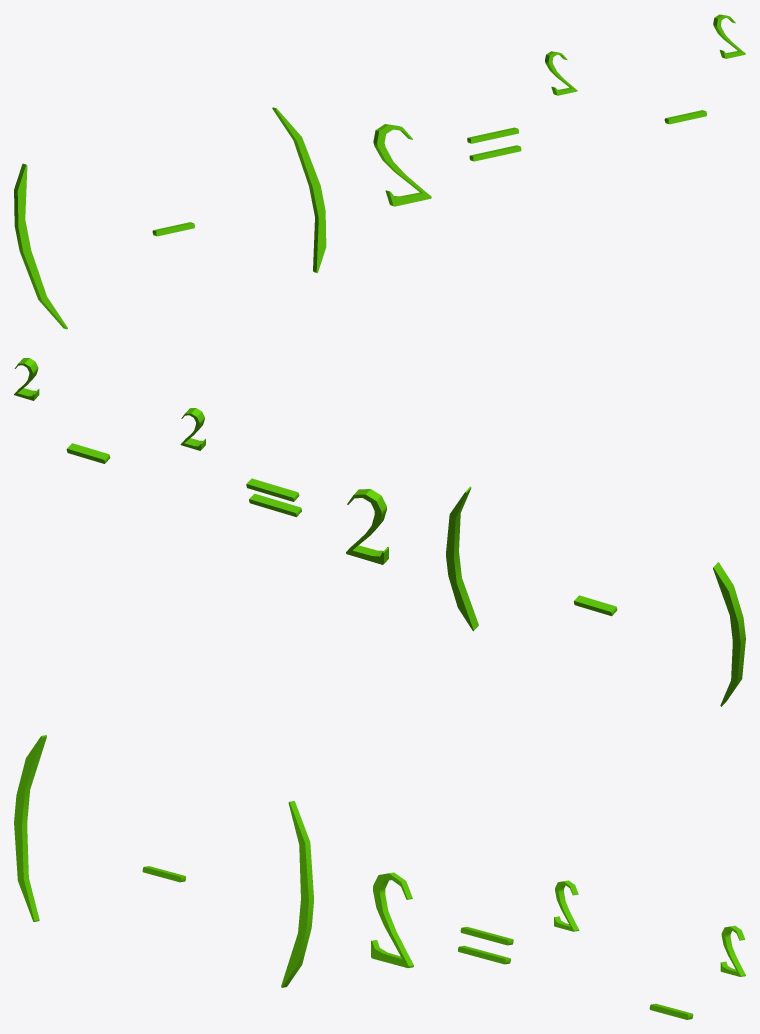
Rendered from blank_formulaA.fbx.
3 renders of one model, top to bottom at view 1: azimuth 30°, elevation 25°; view 2: azimuth 150°, elevation 25°; view 3: azimuth 330°, elevation 25°, orthographic. The views are drawn at different scales.
Parts seen in each view (by area): view 1: blank_formulaA; view 2: blank_formulaA; view 3: blank_formulaA.
Part boxes in pixels (x1,y1,x2,y2): blank_formulaA: (14, 14, 745, 329); blank_formulaA: (14, 358, 745, 706); blank_formulaA: (14, 735, 745, 1019).
Size of the model in its own units: 40.87 by 8.9 by 4.46.
